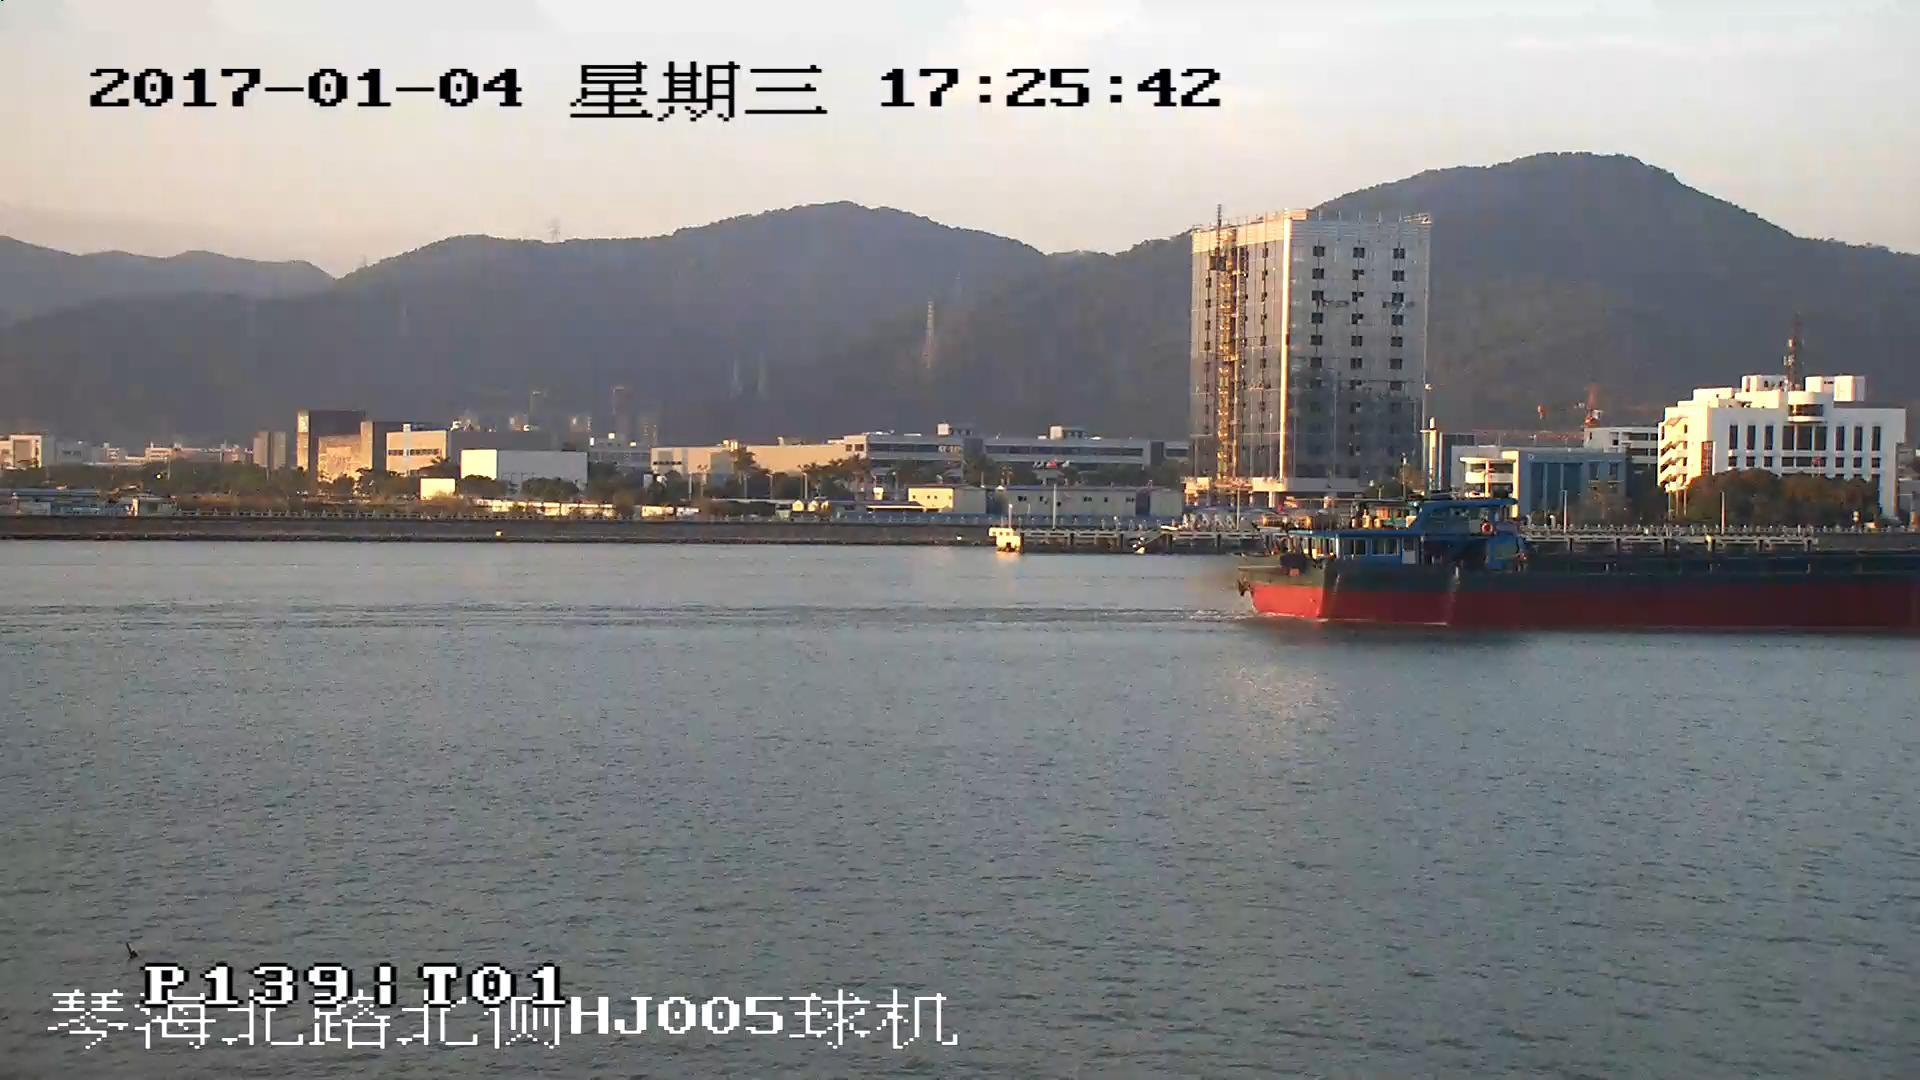Ship: (1241, 496, 1920, 632)
